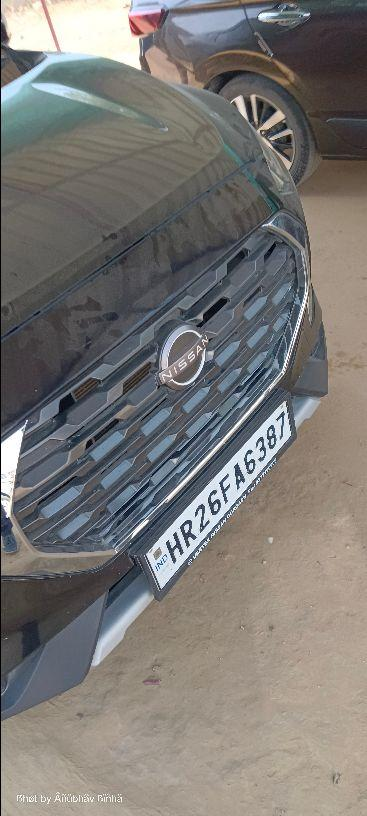license_plate: (130, 391, 297, 601)
